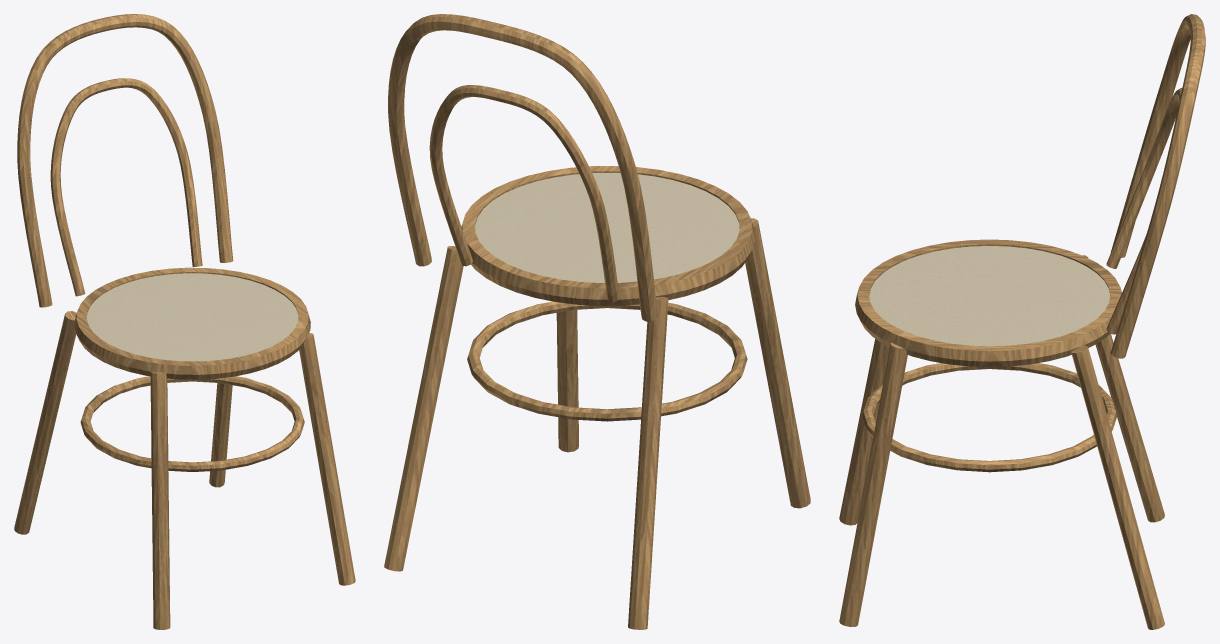
File: bentwood_oak.glb
3 views of the same model, side by side, from view 1: azimuth 30°, elevation 25°; view 2: azimuth 150°, elevation 25°; view 3: azimuth 270°, elevation 25° (orthographic). The views are drawn at different scales.
Parts seen in each view (by area): view 1: bentwood_oak; view 2: bentwood_oak; view 3: bentwood_oak.
Boxes of the visible parts, x1,y1,x2,y2 form: bentwood_oak: (14, 14, 355, 629); bentwood_oak: (384, 14, 810, 629); bentwood_oak: (839, 14, 1205, 629).
Bounding box in the file's own units: 0.4273 × 0.9306 × 0.5714.
2 materials, 2 textured.
